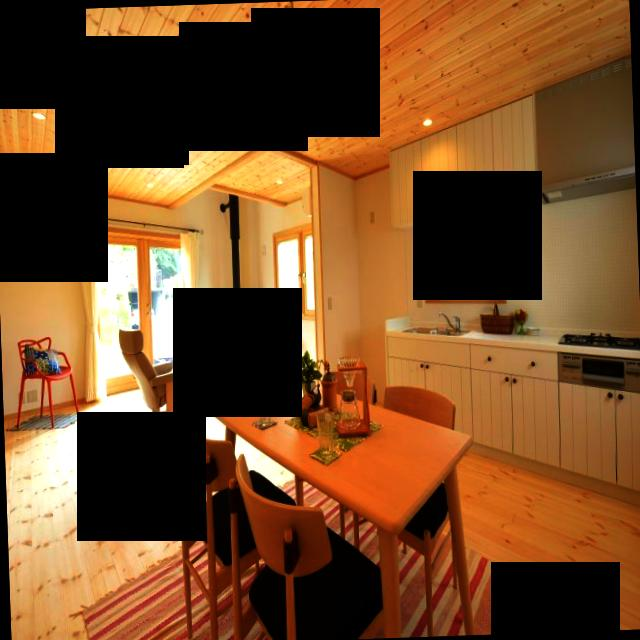natural chair: (229, 451, 367, 640)
natural desk: (215, 369, 481, 640)
